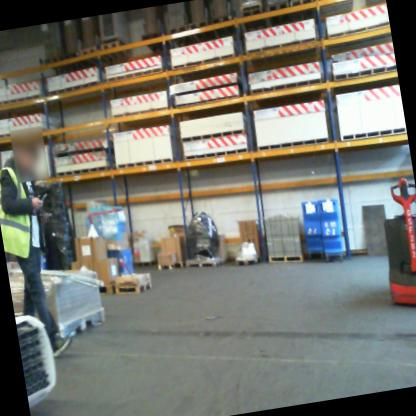pallet: (19, 291, 116, 351), (252, 129, 329, 158), (169, 50, 241, 80), (250, 71, 325, 97), (242, 32, 319, 57), (337, 120, 406, 147), (51, 156, 111, 187), (111, 151, 177, 178), (47, 75, 108, 104), (104, 64, 169, 89), (179, 123, 247, 146), (170, 92, 244, 113), (334, 62, 397, 86), (184, 145, 249, 165), (111, 102, 169, 124), (327, 21, 389, 41), (98, 34, 131, 70), (113, 274, 155, 301), (0, 122, 55, 141), (0, 91, 52, 110), (239, 2, 267, 35), (187, 16, 215, 49), (182, 253, 228, 273), (78, 40, 105, 74), (266, 248, 307, 270), (166, 21, 193, 53), (141, 24, 171, 51), (60, 50, 85, 81), (211, 12, 234, 43), (156, 252, 188, 274), (264, 0, 293, 22), (40, 51, 61, 77), (231, 253, 262, 269), (96, 275, 115, 299), (325, 248, 346, 267), (291, 0, 319, 12), (135, 257, 154, 271)
pallet_truck: (367, 168, 416, 313)
